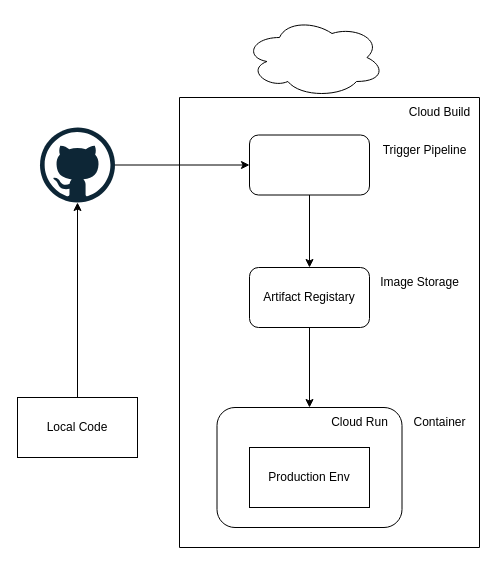
Image size: 497x565. Some labels were removed from this diagram. Here are the shapes that lost their labels. From the top down, the centre of each, then its label:
(314,57): Google Cloud
(309,164): Triggers
